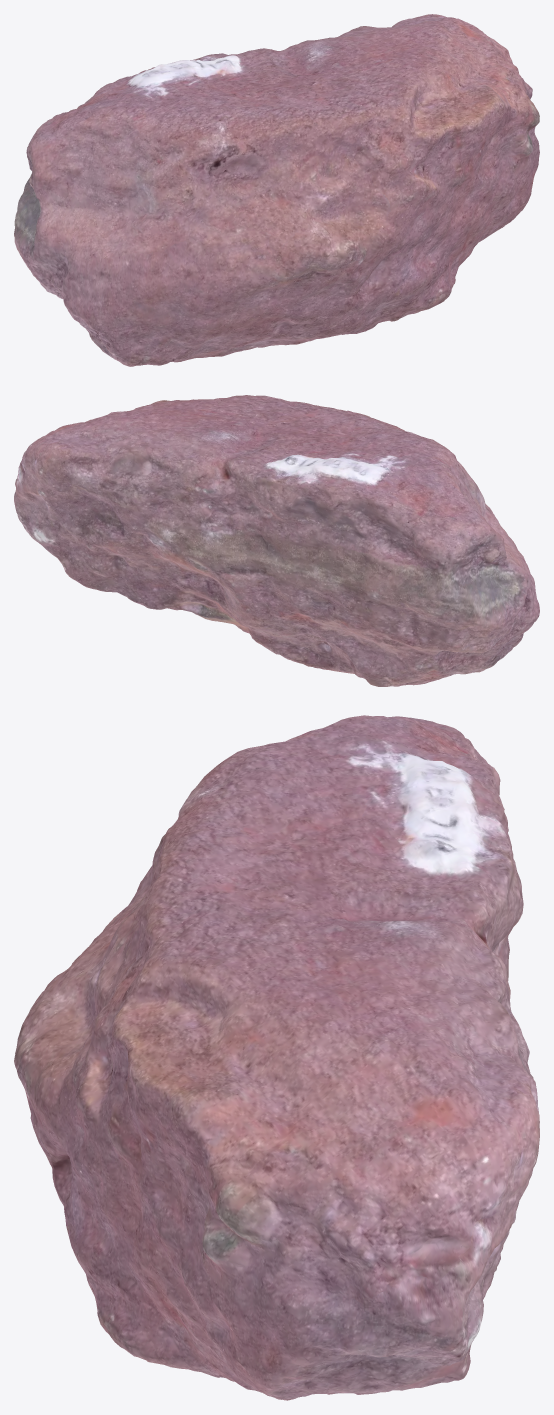
Rendered from hematite.glb.
3 renders of one model, top to bottom at view 1: azimuth 30°, elevation 25°; view 2: azimuth 150°, elevation 25°; view 3: azimuth 270°, elevation 25°, orthographic. The views are drawn at different scales.
Visible parts, largest first — view 1: Object_2; view 2: Object_2; view 3: Object_2.
Boxes of the visible parts, left/top/right/bottom form: Object_2: left=14, top=14, right=539, bottom=366; Object_2: left=14, top=395, right=539, bottom=686; Object_2: left=14, top=715, right=539, bottom=1400.
Bounding box in the file's own units: 2.37 × 1.09 × 1.14.
Materials: 1 (1 with a texture image).
